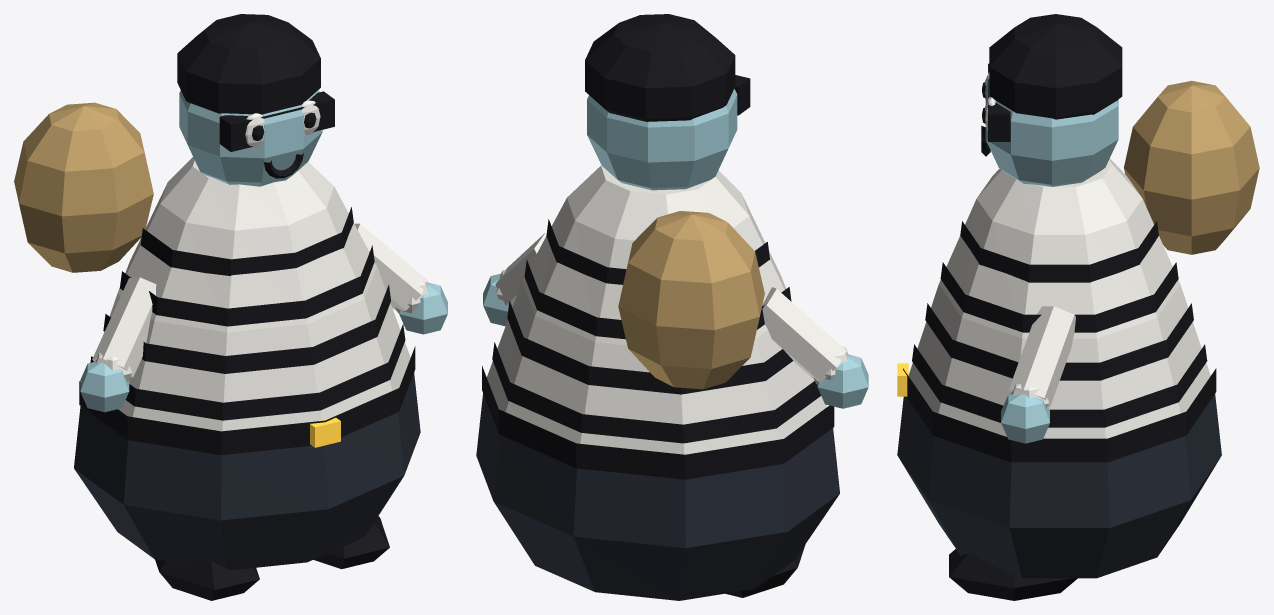
The model's file is npc_sospechoso.glb.
The picture shows the model from 3 angles, left to right: view 1: azimuth 30°, elevation 25°; view 2: azimuth 150°, elevation 25°; view 3: azimuth 270°, elevation 25°; orthographic projection. The views are drawn at different scales.
Parts seen in each view (by area): view 1: body_white, body_jeans, body_black, props_sack, cap_black, head_skin_celeste, arms_white, legs_black, arms_skin_celeste, face_black, face_white, body_gold; view 2: body_jeans, body_white, body_black, props_sack, cap_black, head_skin_celeste, arms_white, arms_skin_celeste, legs_black, face_black; view 3: body_white, body_jeans, body_black, props_sack, cap_black, head_skin_celeste, arms_white, legs_black, arms_skin_celeste, face_black.
Part boxes in pixels (left/top/right/bottom): body_white: left=104, top=157, right=410, bottom=431; body_jeans: left=74, top=373, right=420, bottom=569; body_black: left=79, top=207, right=415, bottom=454; props_sack: left=14, top=102, right=153, bottom=272; cap_black: left=177, top=14, right=320, bottom=114; head_skin_celeste: left=179, top=90, right=322, bottom=186; arms_white: left=92, top=223, right=428, bottom=382; legs_black: left=155, top=516, right=389, bottom=600; arms_skin_celeste: left=80, top=283, right=447, bottom=412; face_black: left=219, top=91, right=334, bottom=178; face_white: left=245, top=100, right=320, bottom=148; body_gold: left=310, top=417, right=340, bottom=447; body_jeans: left=476, top=393, right=839, bottom=600; body_white: left=487, top=165, right=827, bottom=454; body_black: left=482, top=219, right=834, bottom=479; props_sack: left=618, top=211, right=764, bottom=389; cap_black: left=585, top=14, right=735, bottom=121; head_skin_celeste: left=587, top=89, right=737, bottom=190; arms_white: left=495, top=232, right=848, bottom=384; arms_skin_celeste: left=483, top=273, right=868, bottom=408; legs_black: left=725, top=544, right=805, bottom=597; face_black: left=734, top=75, right=750, bottom=115; body_white: left=908, top=158, right=1210, bottom=438; body_jeans: left=897, top=394, right=1221, bottom=578; body_black: left=903, top=221, right=1216, bottom=462; props_sack: left=1124, top=80, right=1259, bottom=254; cap_black: left=989, top=14, right=1122, bottom=119; head_skin_celeste: left=985, top=79, right=1118, bottom=186; arms_white: left=1009, top=306, right=1075, bottom=407; legs_black: left=949, top=549, right=1077, bottom=600; arms_skin_celeste: left=1001, top=394, right=1049, bottom=443; face_black: left=981, top=63, right=1010, bottom=156.
Size of the model in its own units: 1.13 by 1.57 by 0.96.
